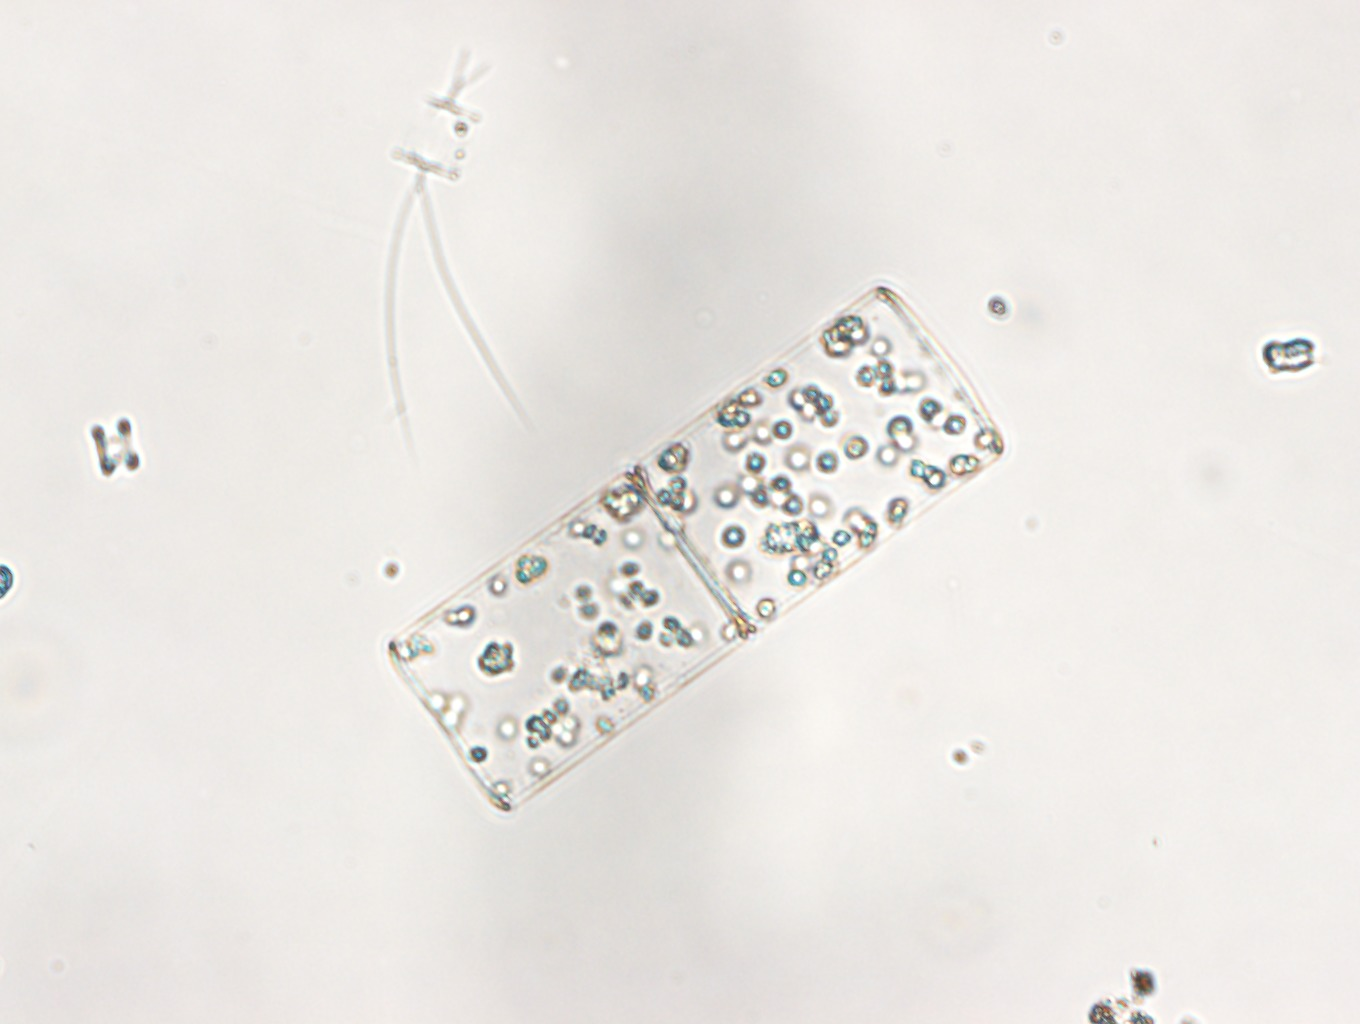chaetoceros: (382, 45, 533, 452)
guinardia flaccida: (386, 281, 1007, 813)
